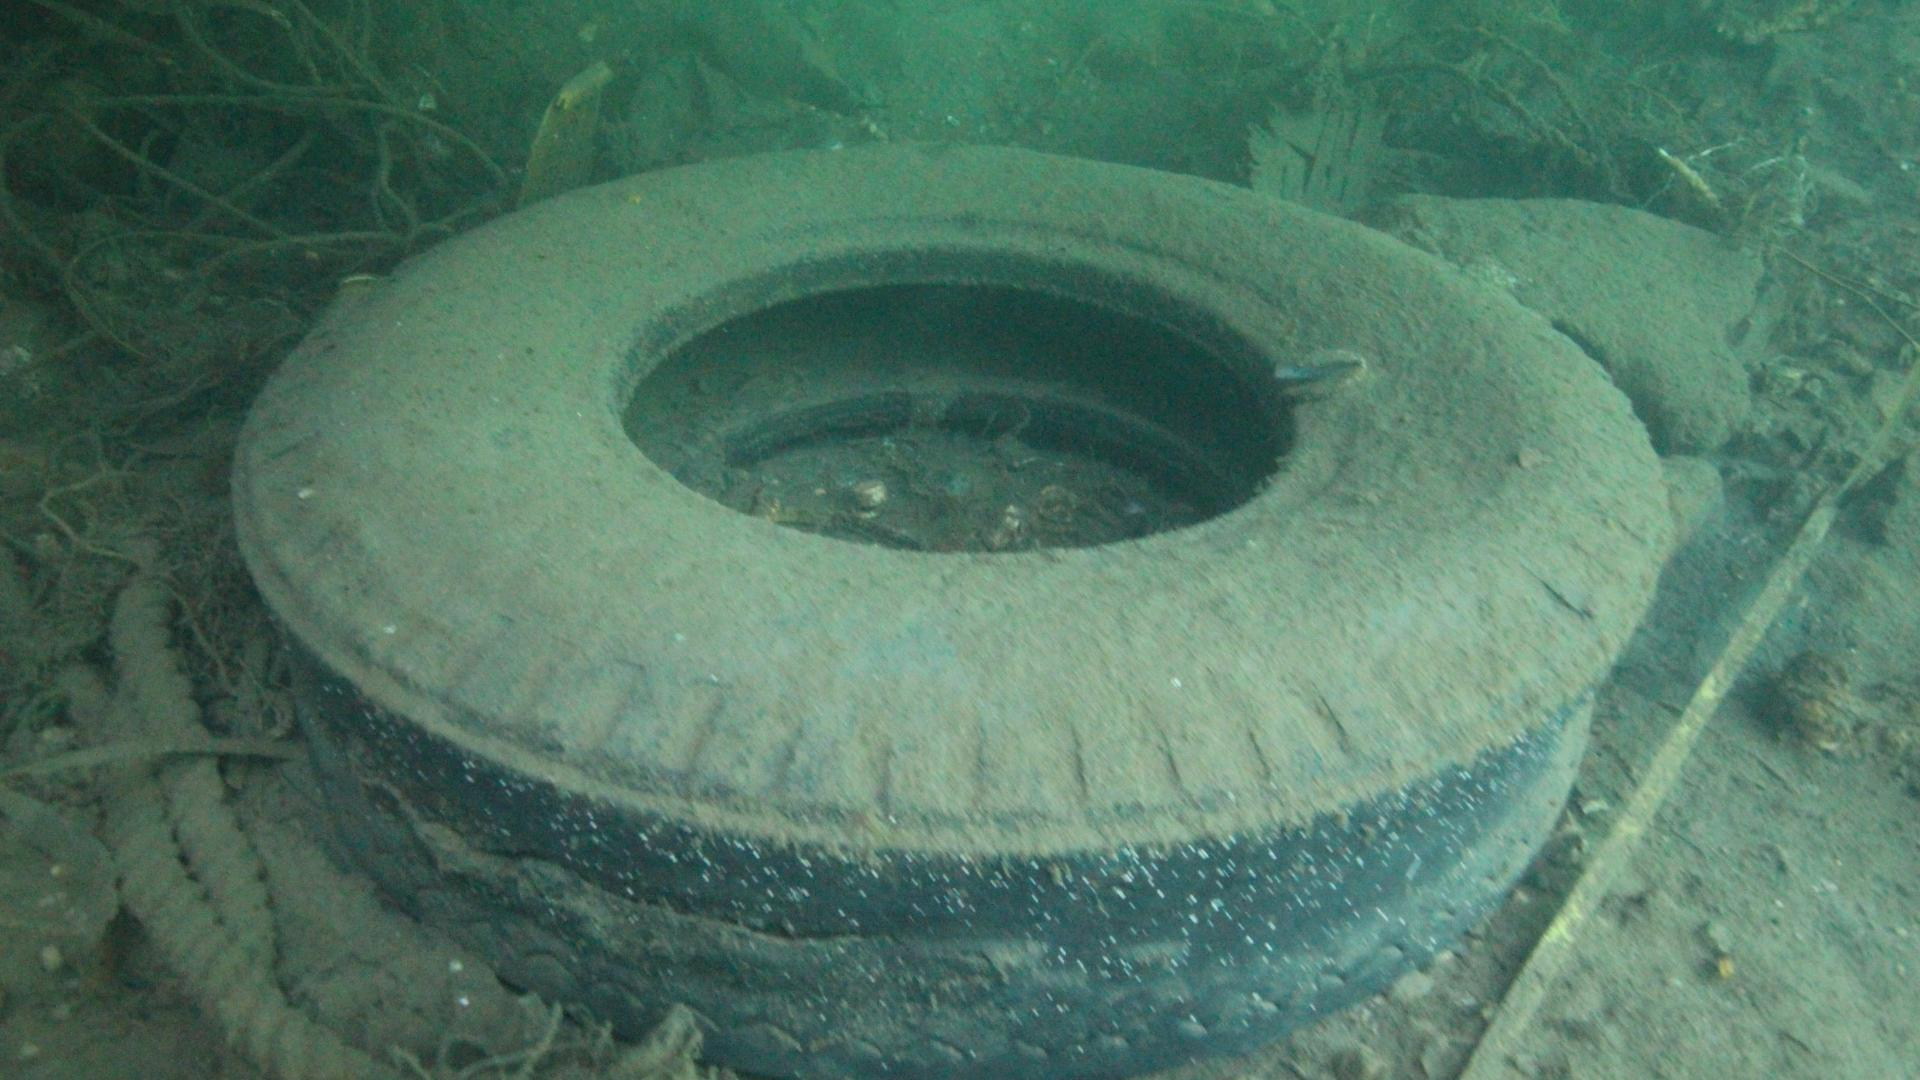bundle of ropes: (0, 563, 422, 1080)
tire: (229, 138, 1675, 1080)
